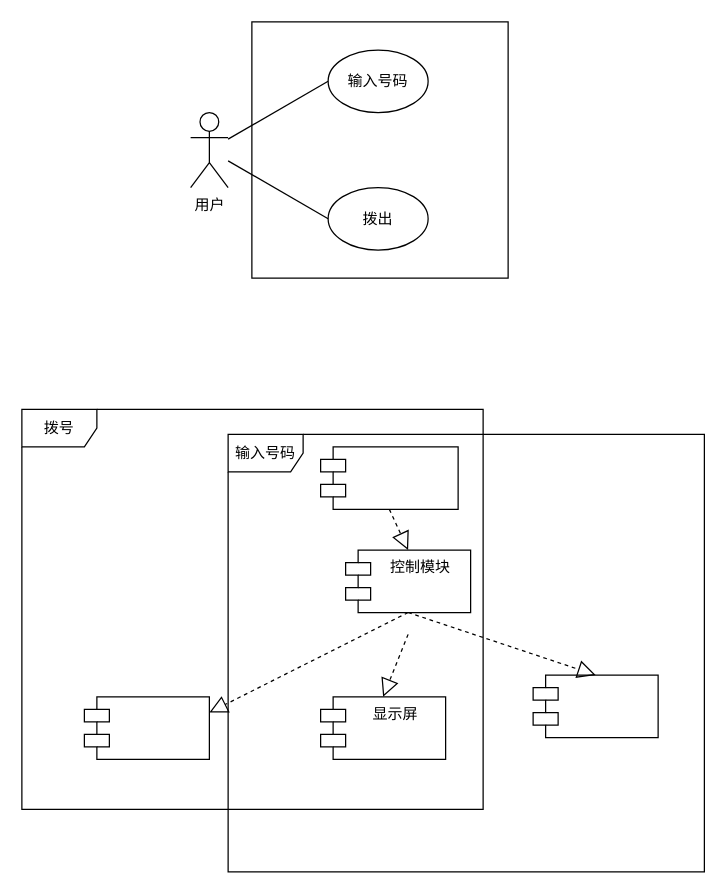
This 726x894 diagram has some shape labels left out. Each missing label, with the centre of its shape:
扬声器: point (595, 706)
按键: point (388, 477)
通信模块: point (146, 727)
